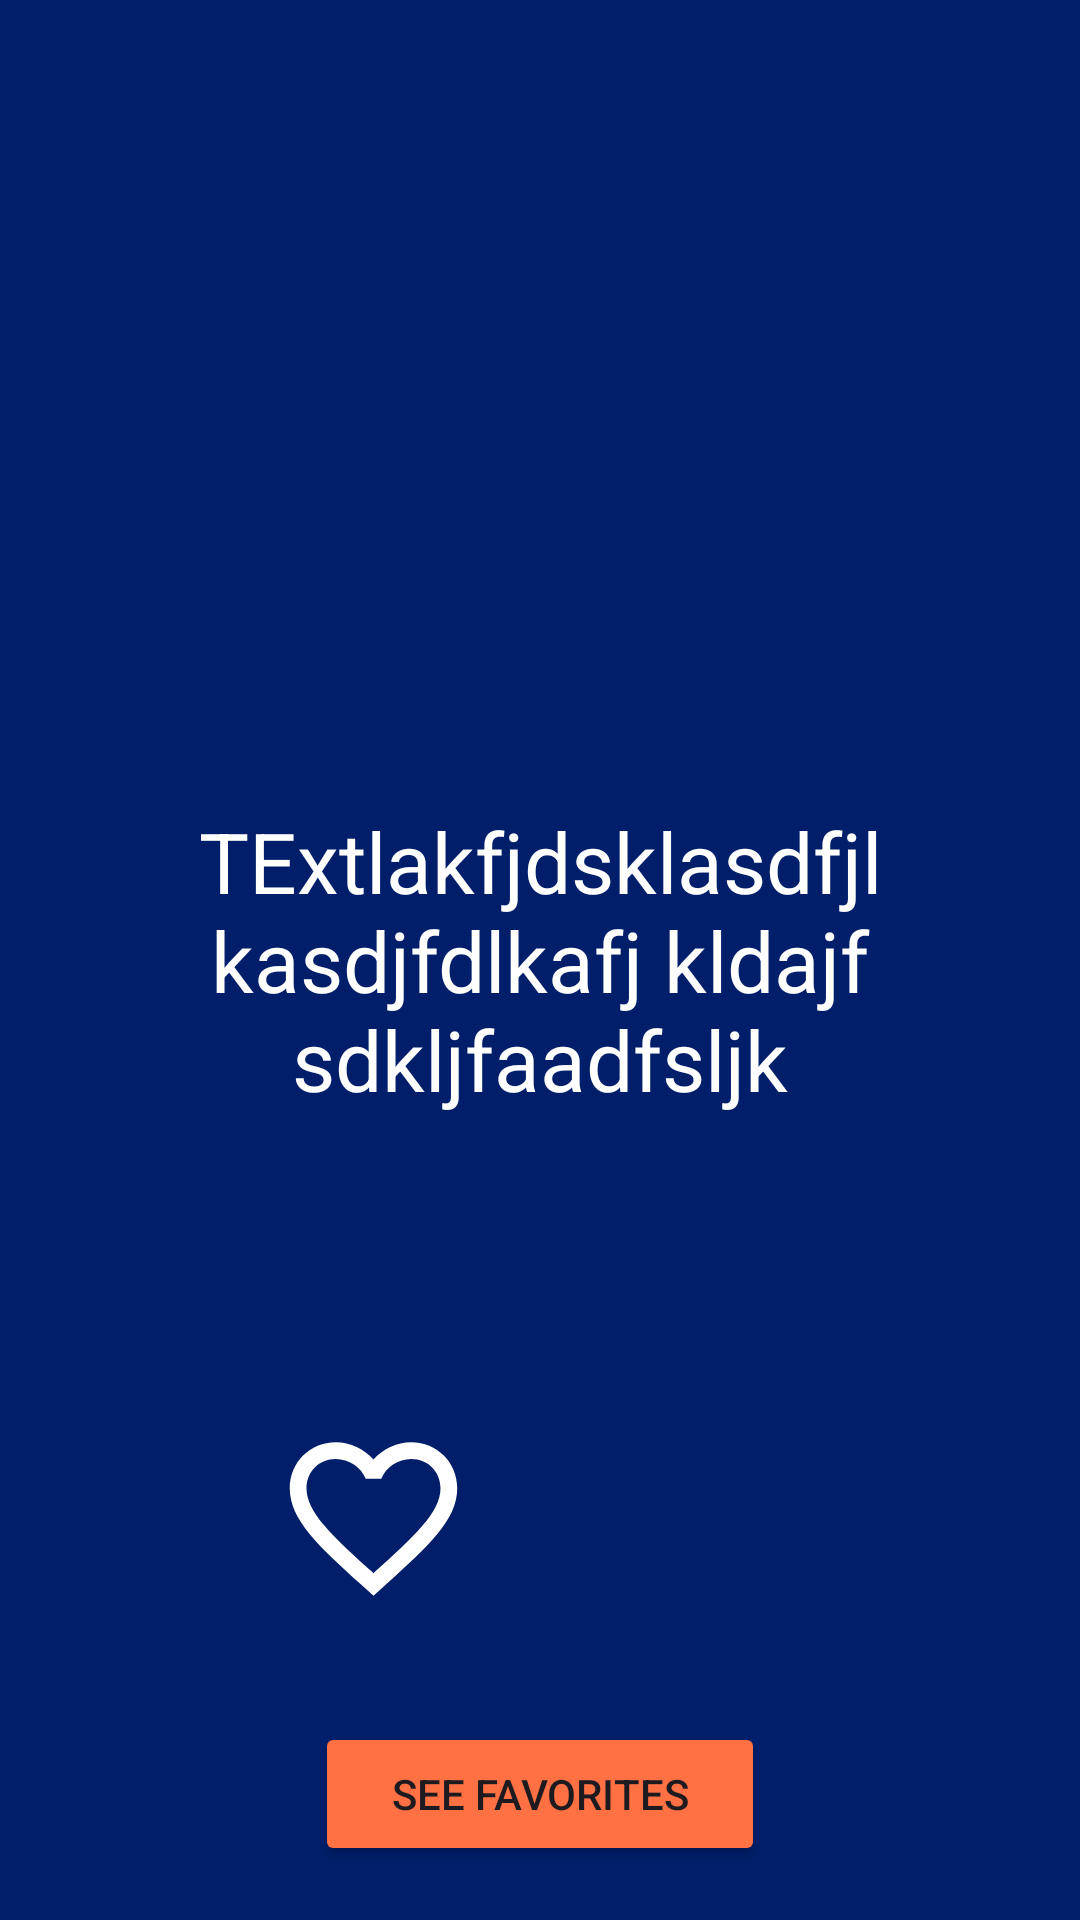

Where icons sit on this 1080w x 1920h app screen, as [x1, y1, x2, y2]:
heart: [289, 1442, 458, 1596]
